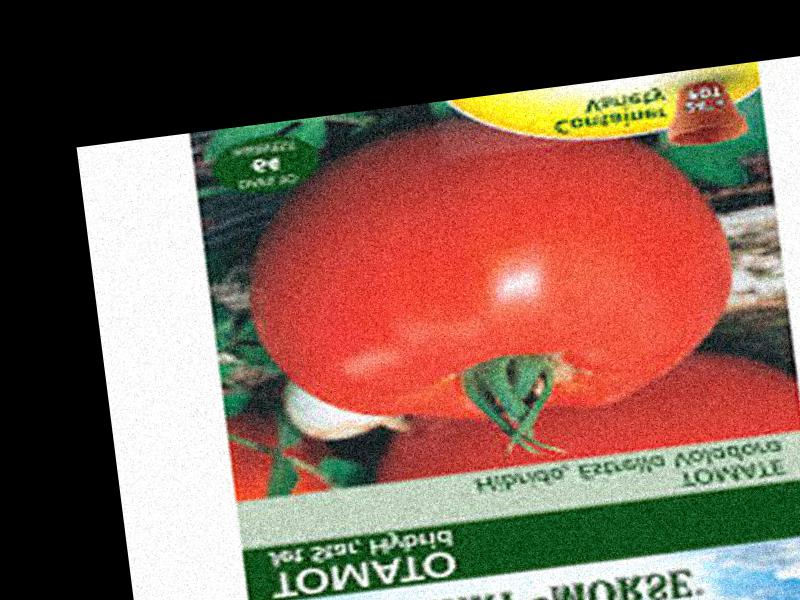Tomato: (231, 89, 741, 447)
